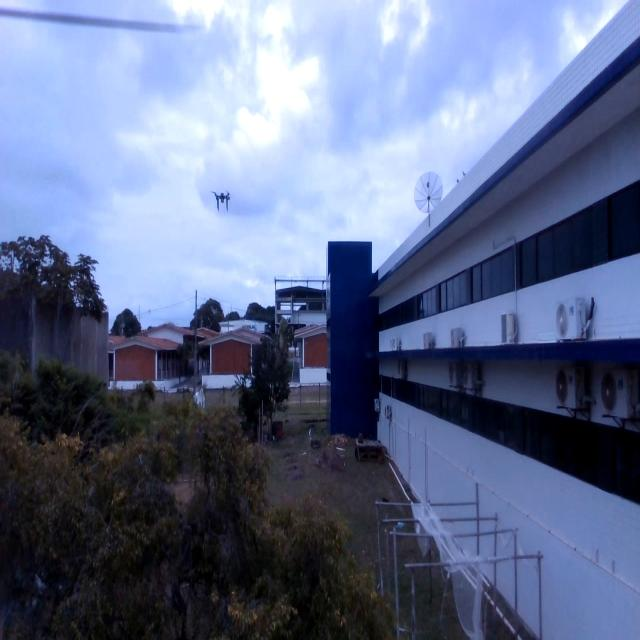-uav-: (208, 183, 238, 220)
